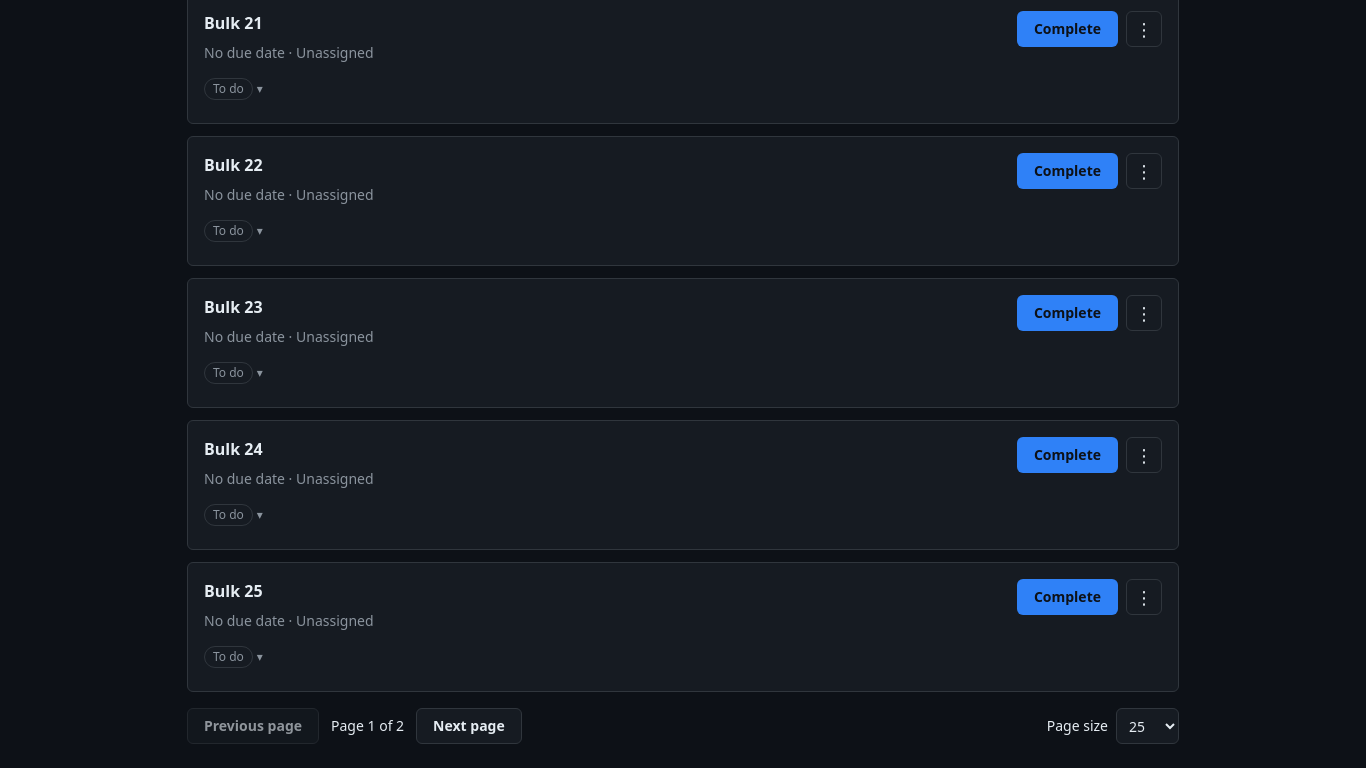
Scenario: task list filters and paging › test_ac05_next_and_previous_move_between_pages
The width and height of the screenshot is (1366, 768).
(page scrolled)
Check: the text "Page 1 of 2" is shown, box [331,716,404,736]
Check: the button "Previous page" is disabled, box [187,708,319,744]
Click the button "Next page".
click(469, 726)  # box [416,708,522,744]
(page scrolled)
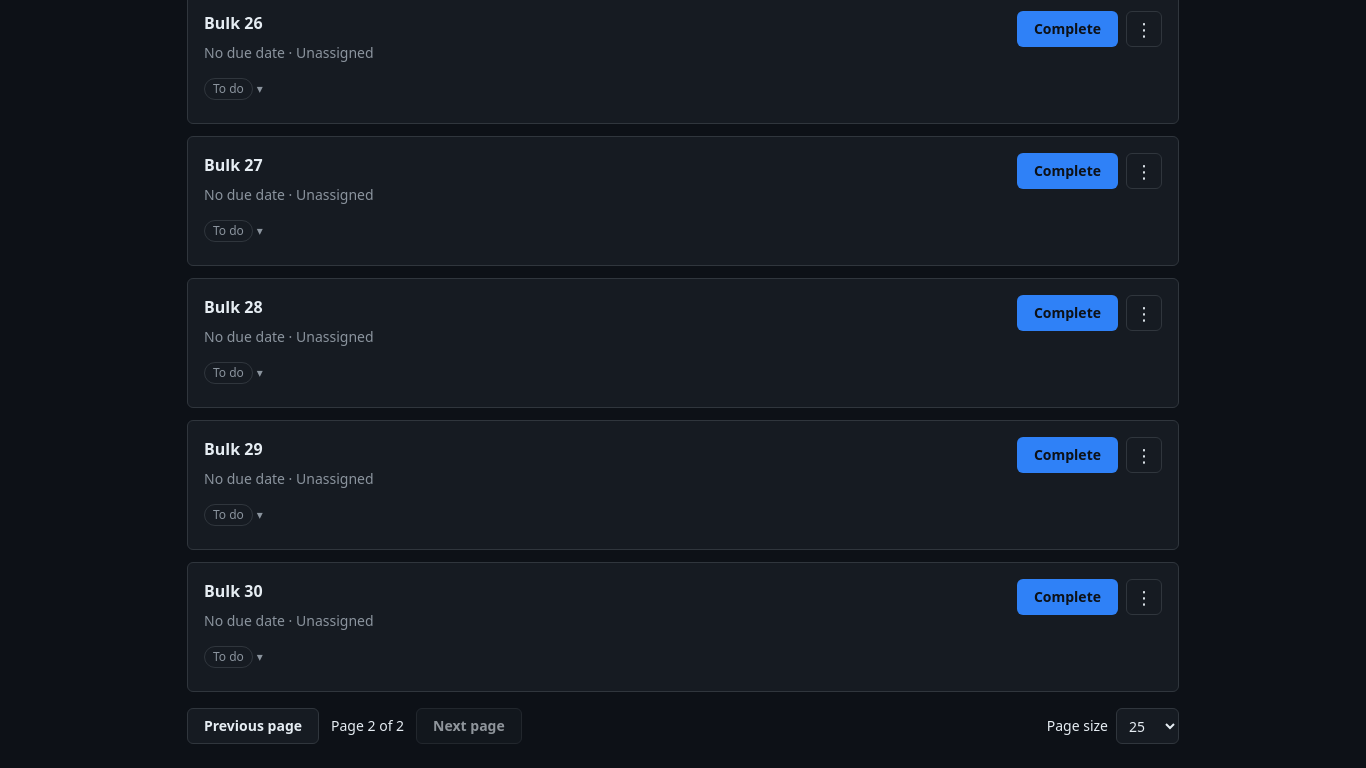
Check: the text "Page 2 of 2" is shown, box [331,716,404,736]
Check: the button "Next page" is disabled, box [416,708,522,744]
Click the button "Previous page".
click(253, 726)  # box [187,708,319,744]
(page scrolled)
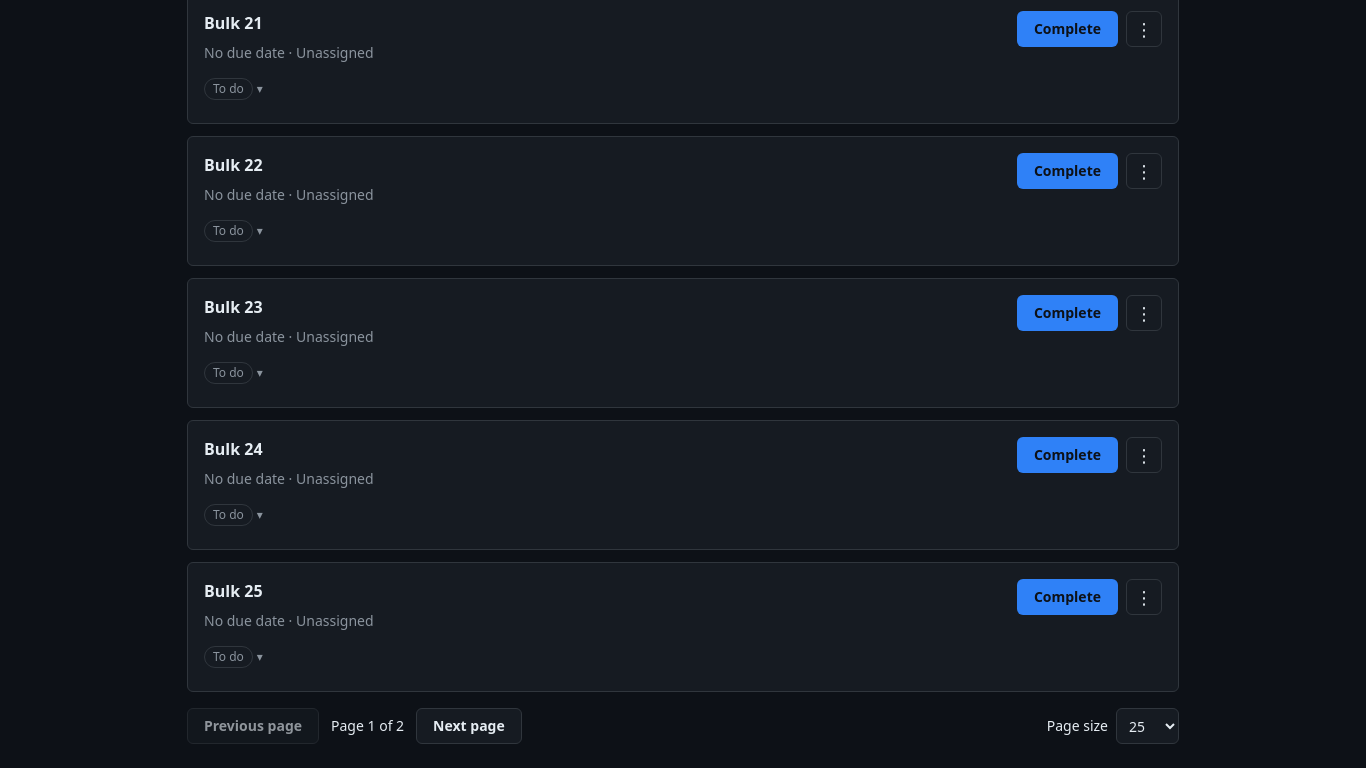
Check: the text "Page 1 of 2" is shown, box [331,716,404,736]
